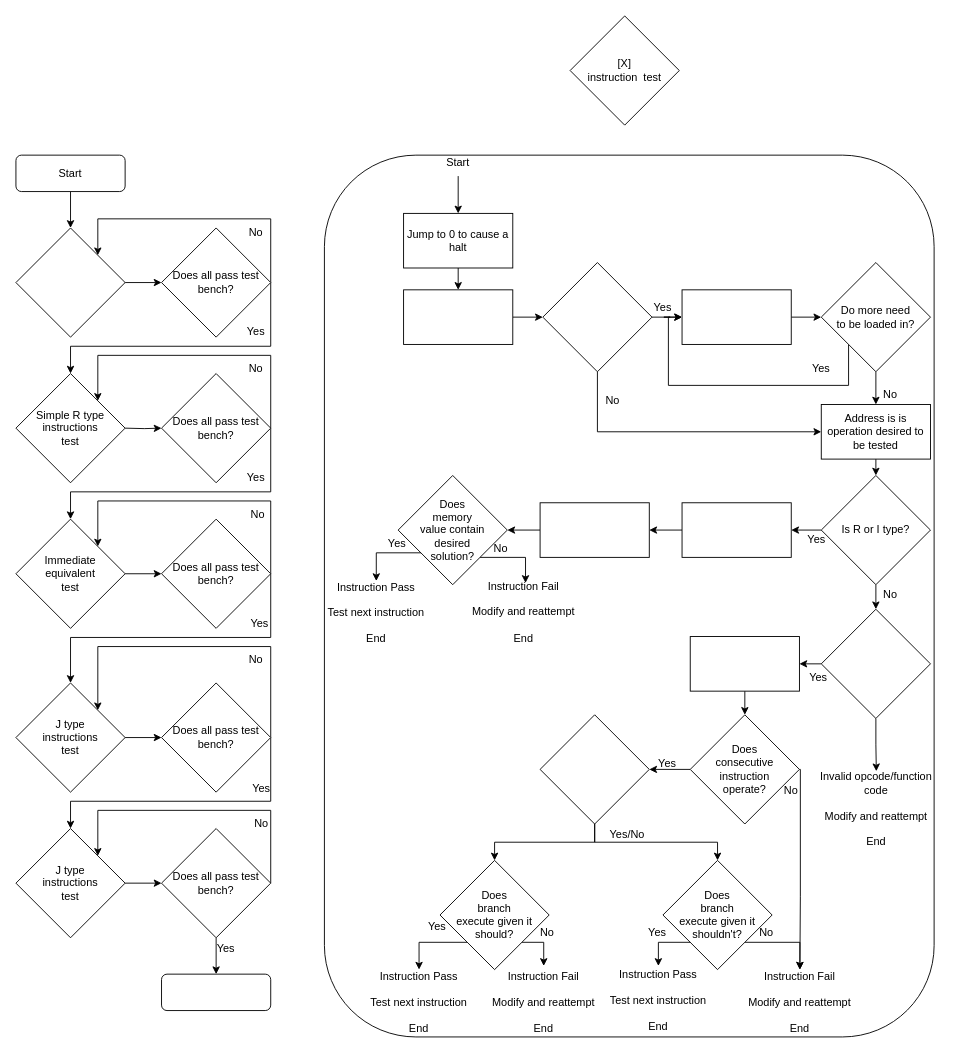
The diagram is 953 pixels wide and 1055 high, and some of its shapes have lost their labels. Each missing label, with the centre of its shape:
Address is a load instruction: pixel 736 316
Address operated now becomes 0xBFC00000: pixel 458 316
Does a value need to be loaded in?: pixel 597 317
End: pixel 216 992
Execute branch instruction and consecutive instruction: pixel 744 663
Fundamental instructions test: pixel 70 282
Is branch meant to execute?: pixel 594 769
Is J type or branch?: pixel 875 663
Run instruction: pixel 736 529
Store value from register containing solution into memory: pixel 594 529
